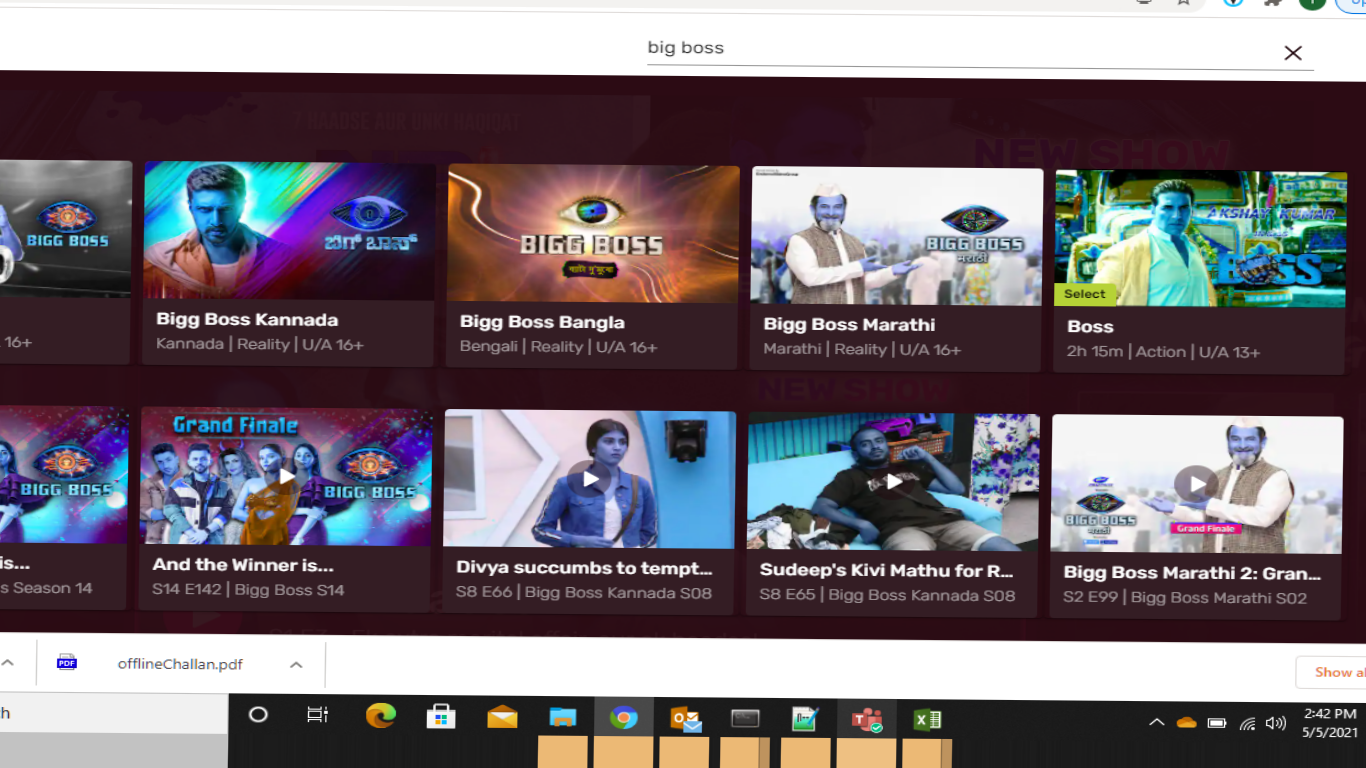searchtextbox: (626, 12, 1308, 63)
